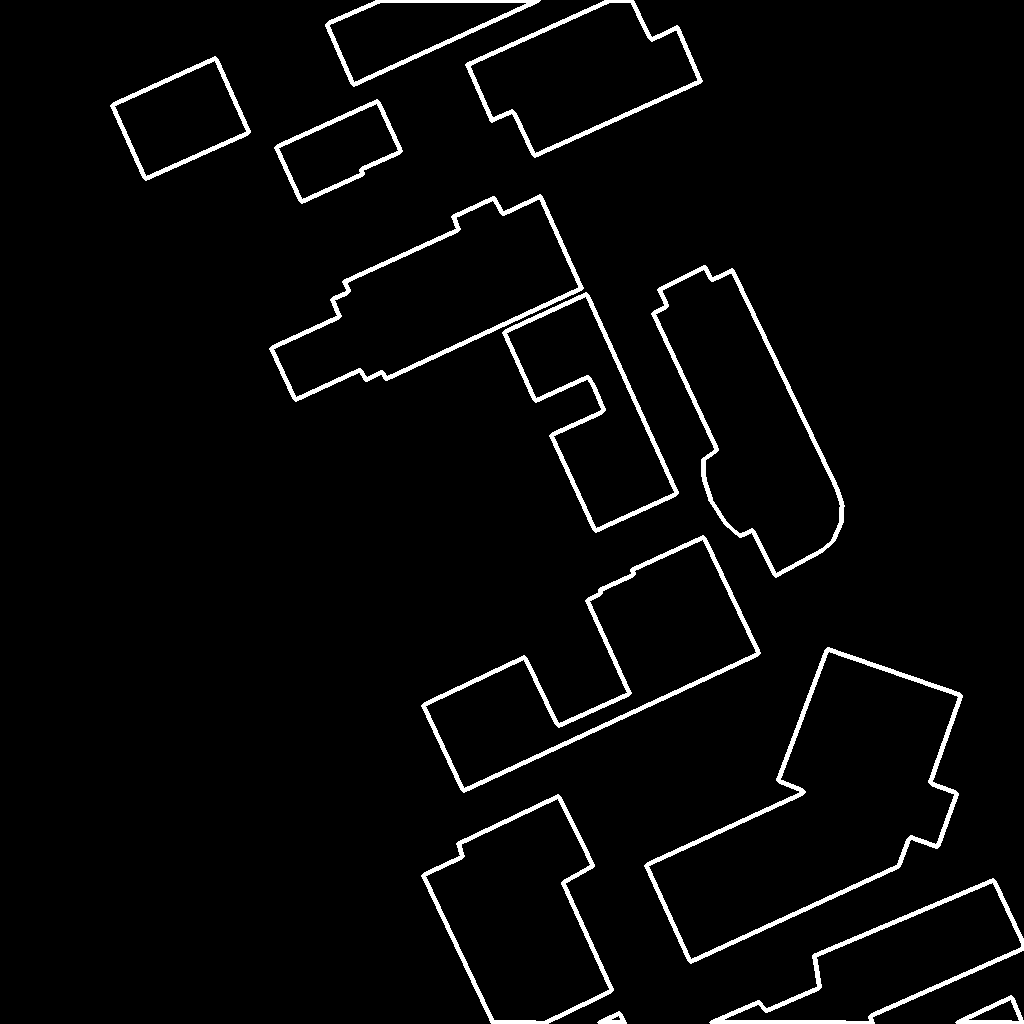building: (646, 649, 962, 963), (423, 537, 760, 792), (271, 196, 583, 401), (653, 267, 843, 577), (710, 880, 1024, 1024), (423, 796, 613, 1024), (504, 294, 678, 532), (467, 0, 702, 157), (327, 0, 541, 86), (112, 58, 250, 180), (276, 101, 402, 203), (956, 997, 1024, 1024), (598, 1013, 626, 1024)
